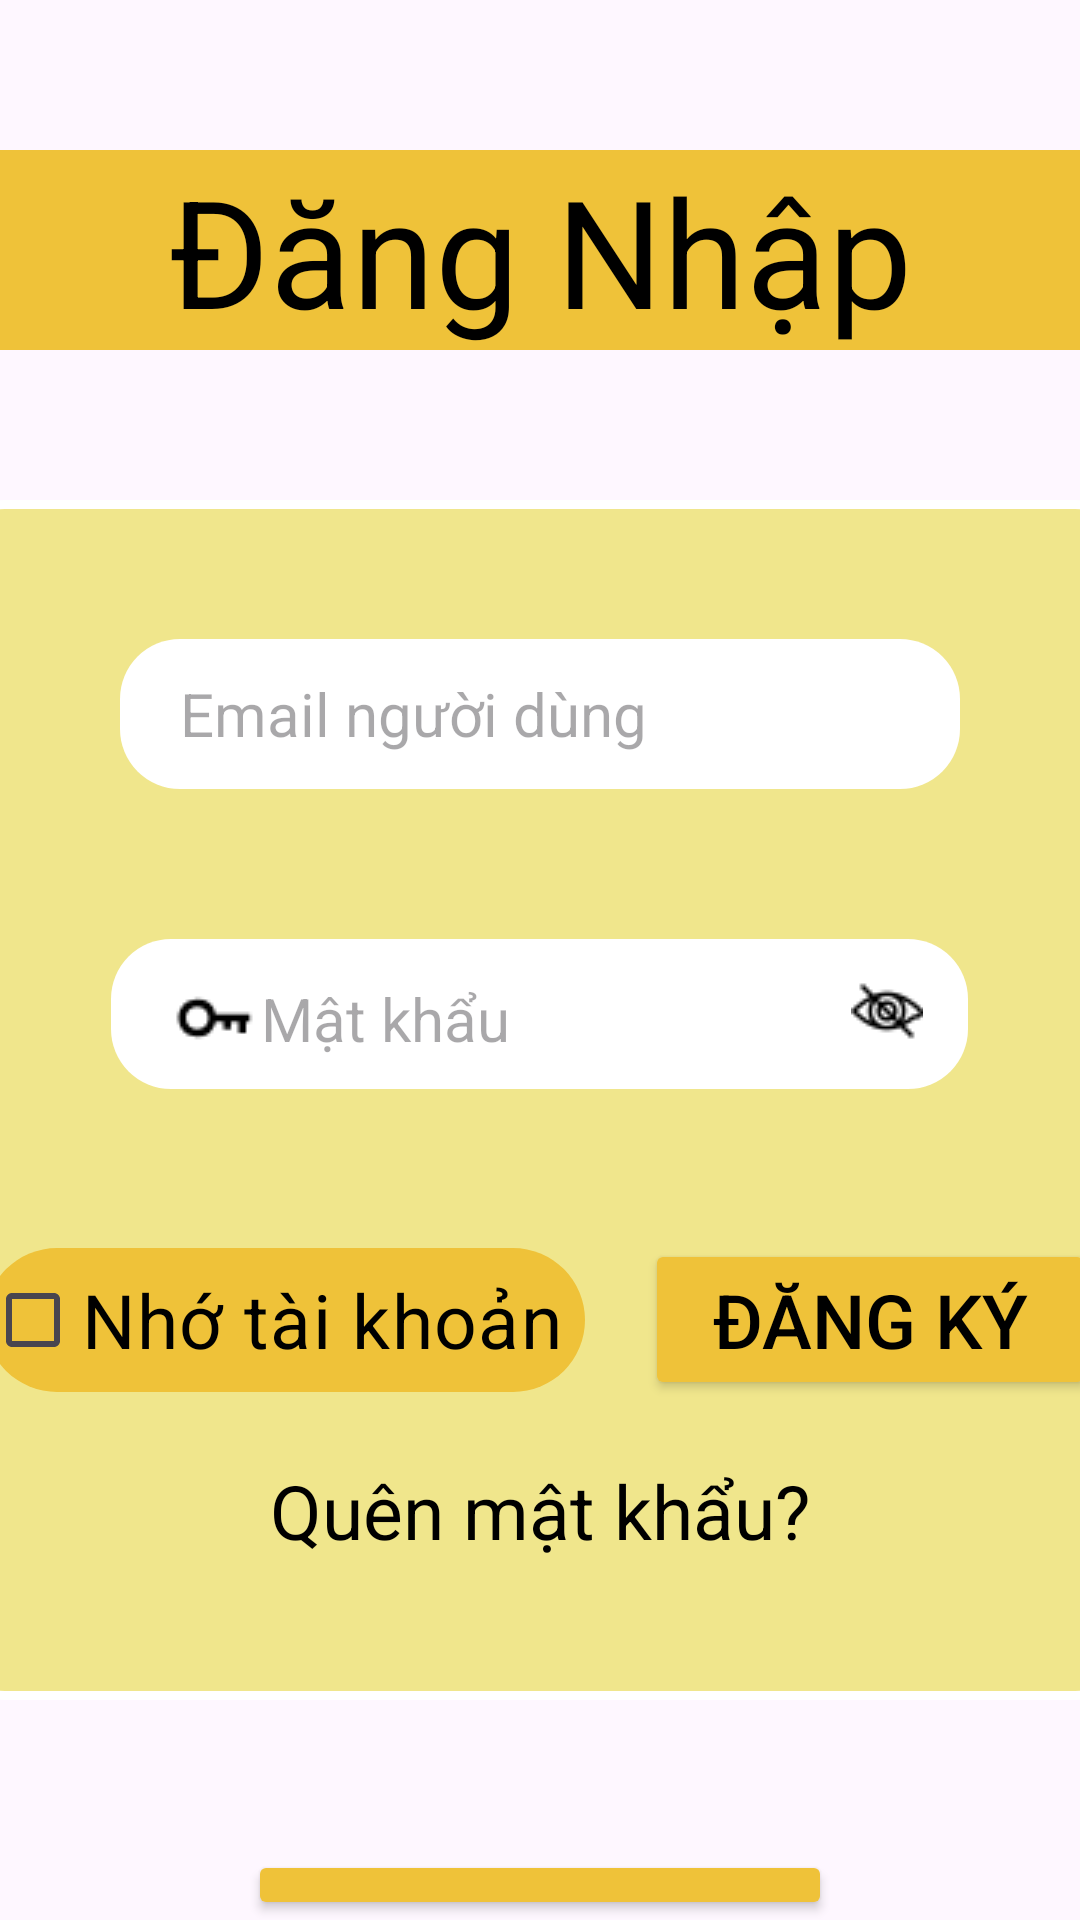

Locate icon controls on the screen. Image size 1080*1920, boxes as [x1=x1, y1=y1, x2=x2, y2=y2].
vision off: [x1=851, y1=983, x2=923, y2=1039]
